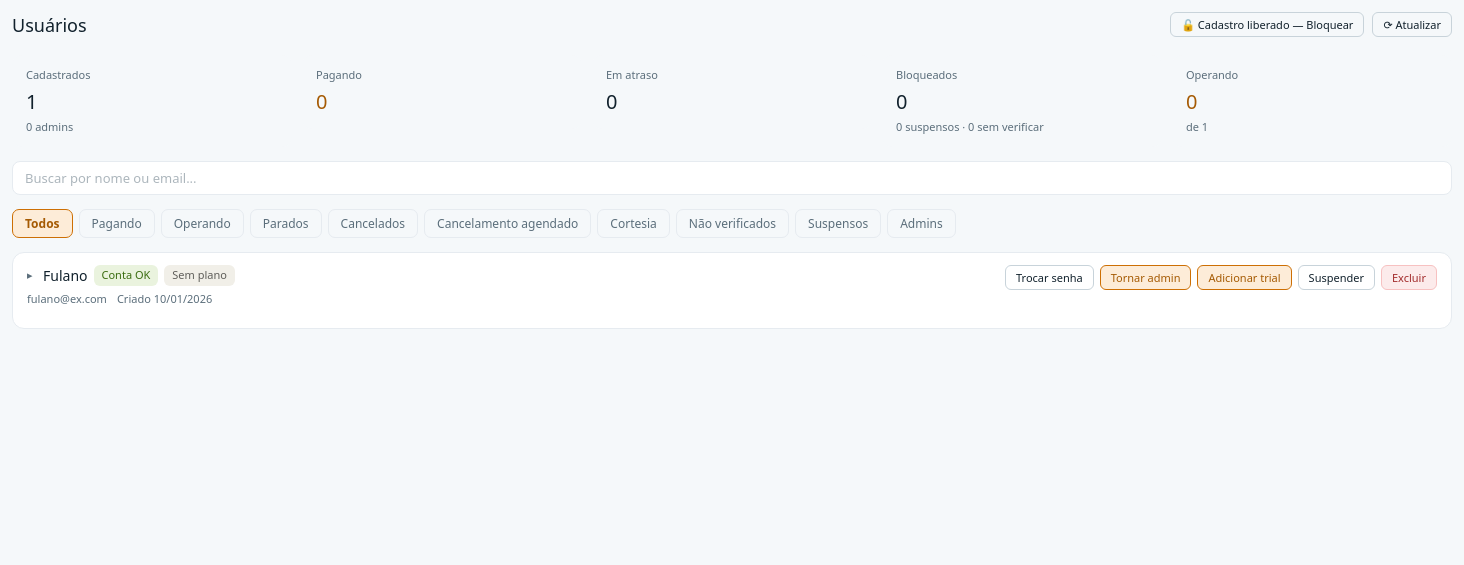
Test: Admin › Usuários › a ficha mostra número travado com o erro, não só 'desconectado'
This screenshot has width=1464, height=565.
Click the button with aria-label "Ficha de Fulano" at (65, 276), box [27, 265, 1437, 306]
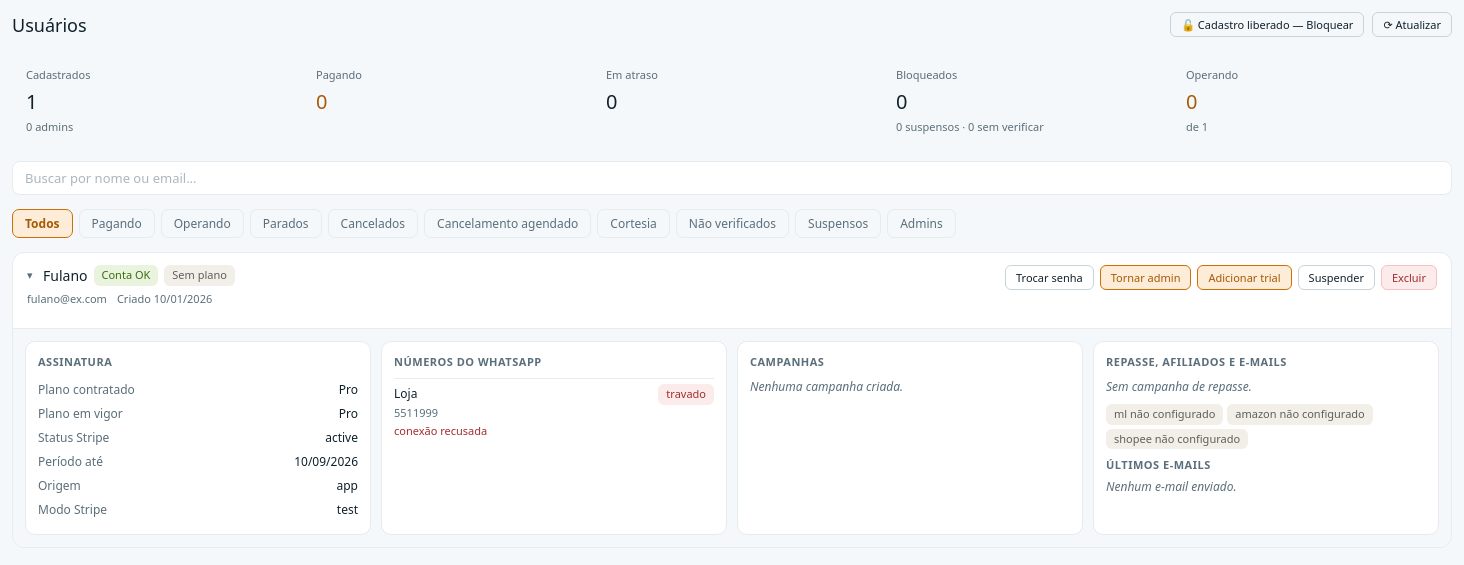
Expected: the text "travado" is shown, [658, 384, 714, 404]
Expected: the text "conexão recusada" is shown, [394, 423, 487, 438]
